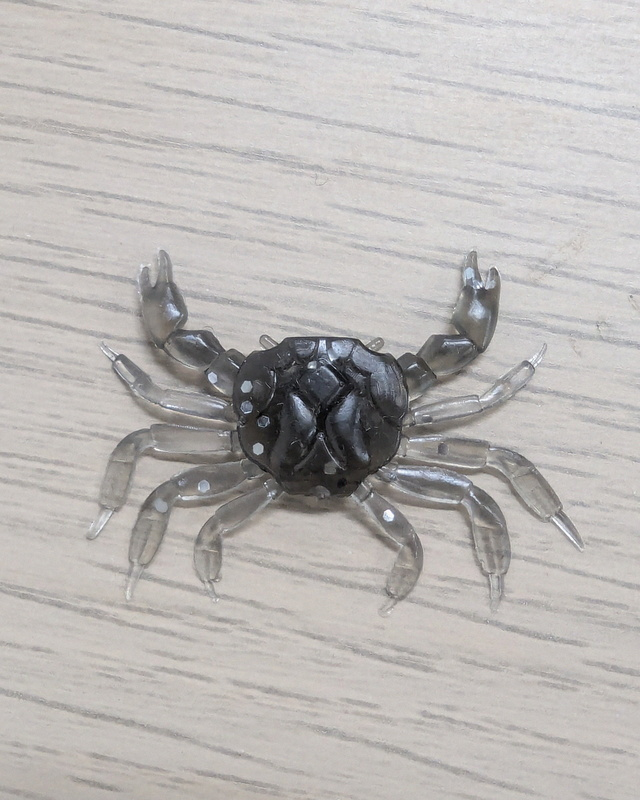crab1: (85, 238, 592, 622)
